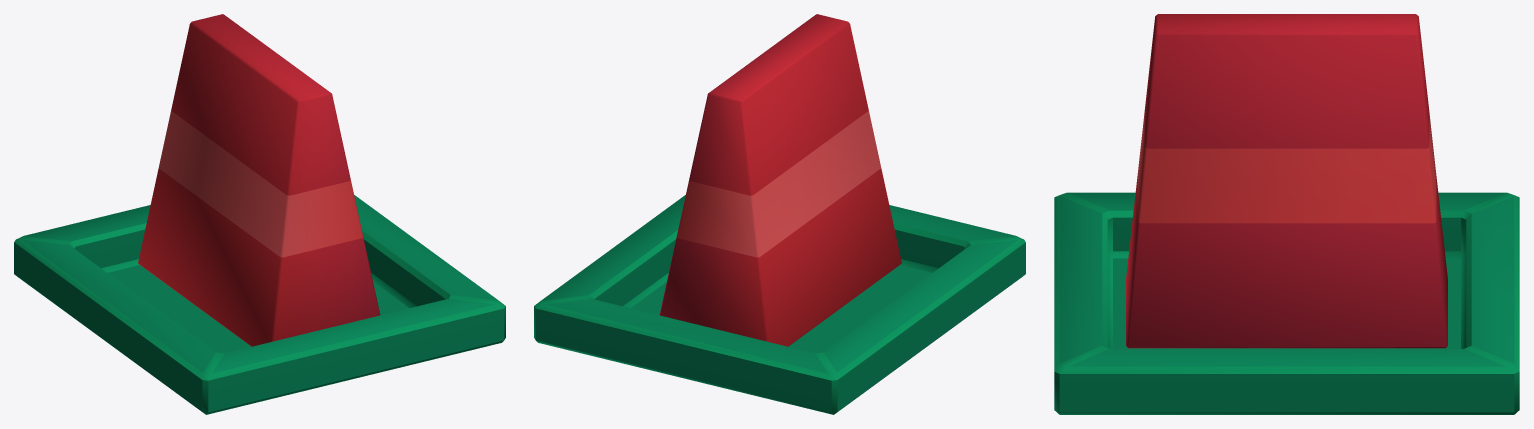
File: Switch.glb
The picture shows the model from 3 angles, left to right: view 1: azimuth 30°, elevation 25°; view 2: azimuth 150°, elevation 25°; view 3: azimuth 270°, elevation 25°; orthographic projection. The views are drawn at different scales.
Parts seen in each view (by area): view 1: Cube, button_base_green; view 2: Cube, button_base_green; view 3: Cube, button_base_green.
Boxes of the visible parts, box(x1,y1,x2,y2) form: Cube: box(138, 14, 380, 346); button_base_green: box(14, 195, 505, 414); Cube: box(659, 14, 901, 346); button_base_green: box(534, 195, 1025, 414); Cube: box(1126, 14, 1447, 348); button_base_green: box(1054, 192, 1519, 414).
Size of the model in its own units: 1.59 by 1.27 by 1.75.
Materials: 2 (2 with a texture image).
